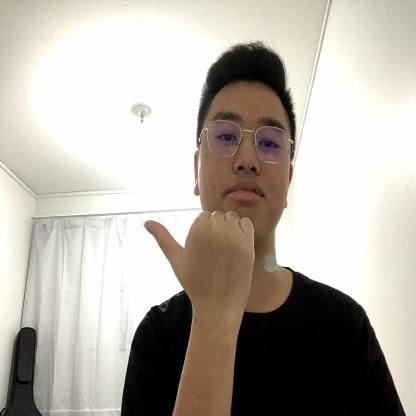right: (144, 210, 257, 310)
